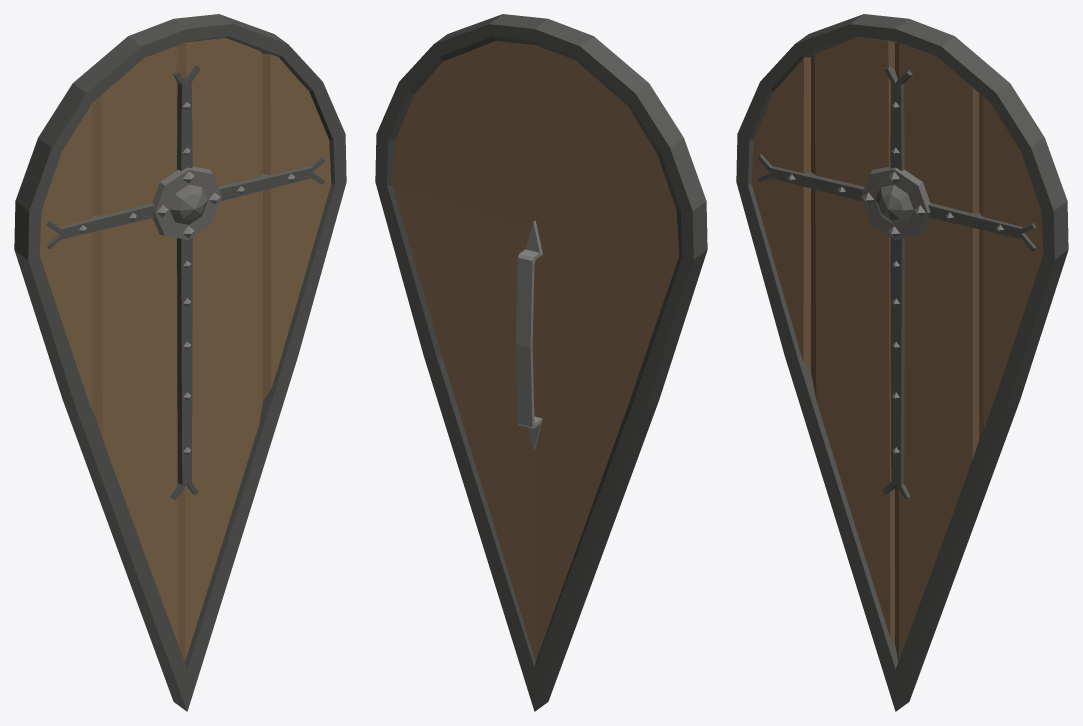
File: SM_pwe_medieval_shield_01.fbx
3 renders of one model, left to right at view 1: azimuth 30°, elevation 25°; view 2: azimuth 150°, elevation 25°; view 3: azimuth 330°, elevation 25°, orthographic.
Visible parts, largest first — view 1: SM_pwe_medieval_shield_01; view 2: SM_pwe_medieval_shield_01; view 3: SM_pwe_medieval_shield_01.
Boxes of the visible parts, x1=… form: SM_pwe_medieval_shield_01: x1=14, y1=14, x2=346, y2=711; SM_pwe_medieval_shield_01: x1=375, y1=14, x2=707, y2=711; SM_pwe_medieval_shield_01: x1=736, y1=14, x2=1068, y2=711.
Bounding box in the file's own units: 58.97 × 121 × 10.2.
